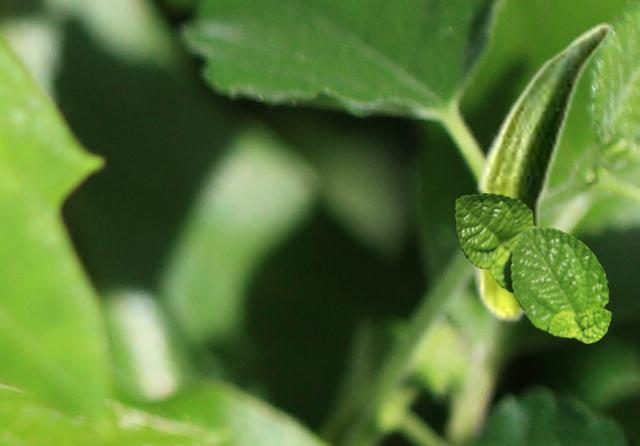okra: (470, 22, 611, 323)
